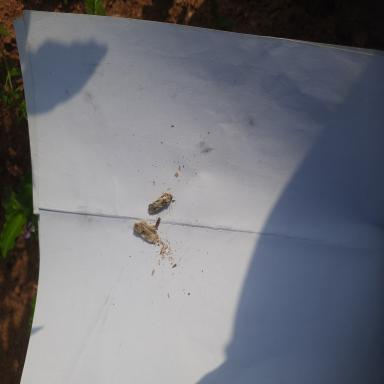pbw: (132, 220, 158, 243), (148, 191, 174, 214)
